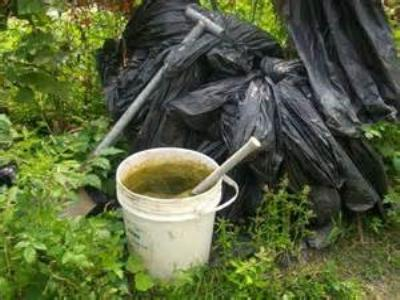bucket: (112, 145, 228, 288)
plastic_bag: (231, 5, 400, 227), (120, 1, 231, 142)
